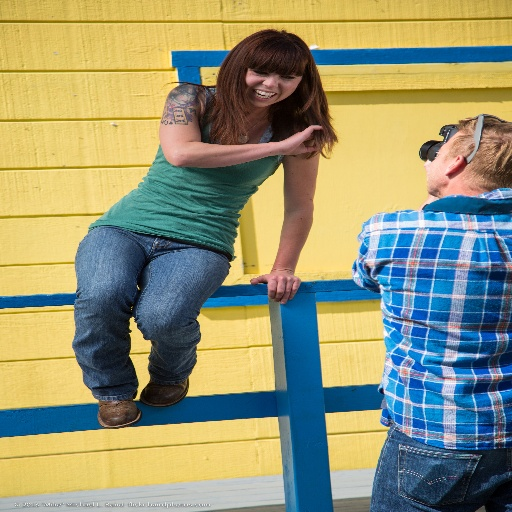hand: (249, 270, 305, 308), (276, 122, 328, 158)
